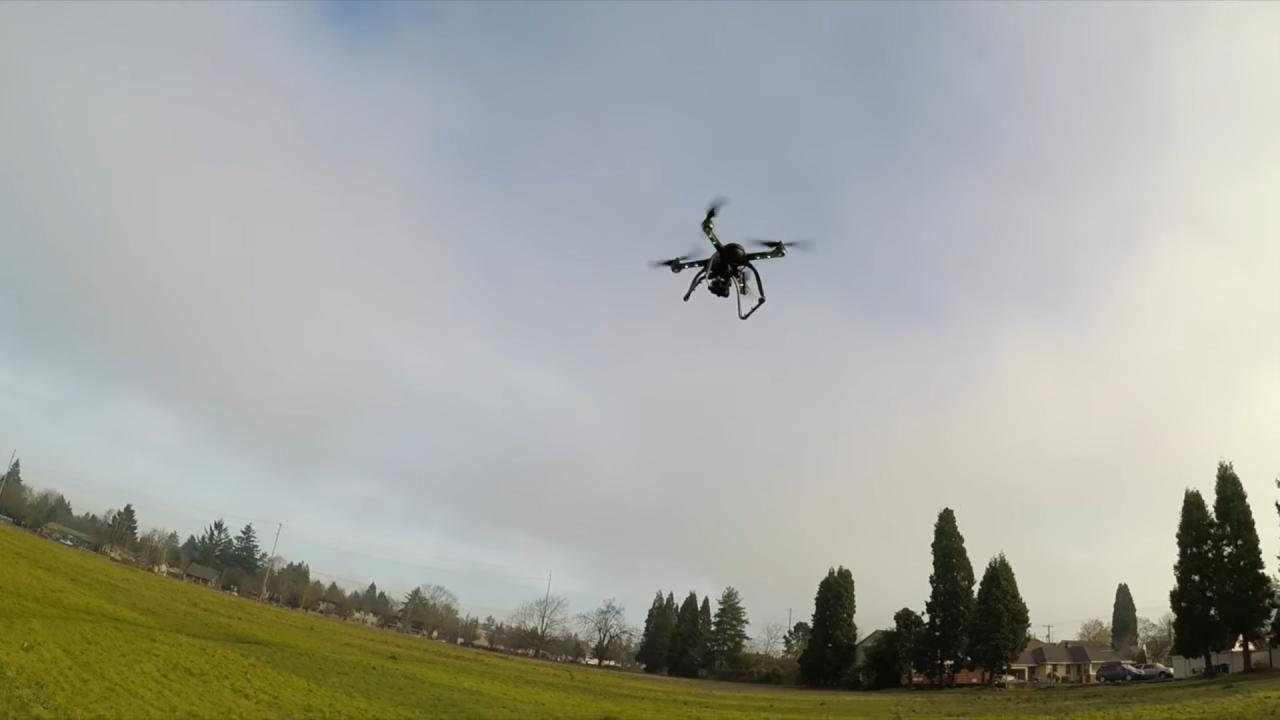Drone: (636, 184, 820, 331)
